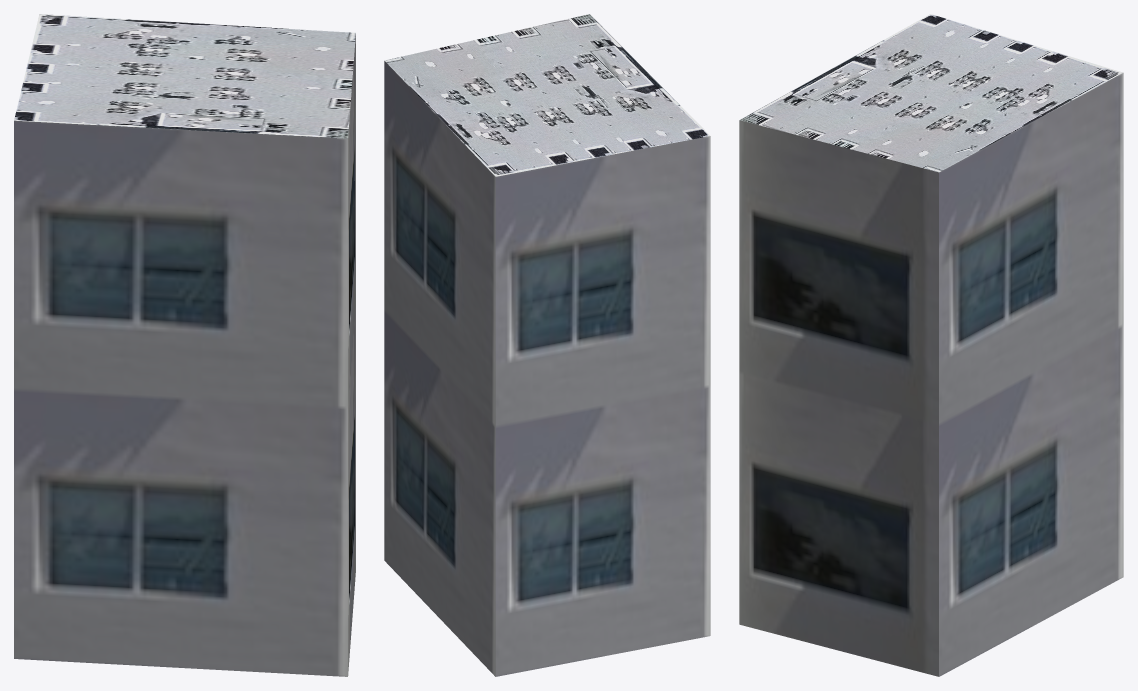
Rendered from ResTex__5232.fbx.
3 views of the same model, side by side, from view 1: azimuth 30°, elevation 25°; view 2: azimuth 150°, elevation 25°; view 3: azimuth 270°, elevation 25° (orthographic). The views are drawn at different scales.
Parts seen in each view (by area): view 1: CityEngineMaterial_10_m, CityEngineMaterial_2_m; view 2: CityEngineMaterial_10_m, CityEngineMaterial_2_m; view 3: CityEngineMaterial_10_m, CityEngineMaterial_2_m.
Part boxes in pixels (x1,y1,x2,y2): CityEngineMaterial_10_m: (14, 35, 355, 676); CityEngineMaterial_2_m: (14, 14, 355, 138); CityEngineMaterial_10_m: (384, 61, 710, 676); CityEngineMaterial_2_m: (384, 14, 709, 176); CityEngineMaterial_10_m: (739, 73, 1123, 676); CityEngineMaterial_2_m: (739, 14, 1122, 172).
Size of the model in its own units: 4.04 by 6 by 4.14.
Materials: 2 (2 with a texture image).
